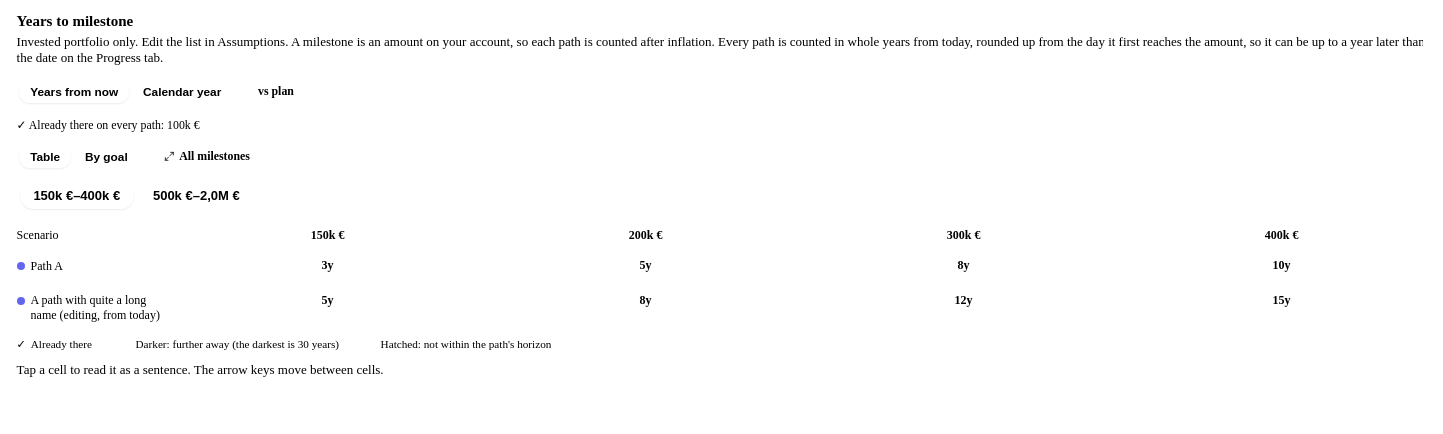
reading by goal › picks one milestone, from every one still ahead, and lists the paths under it
Click the radio button labelled "By goal": (106, 157) [74,146,139,168]
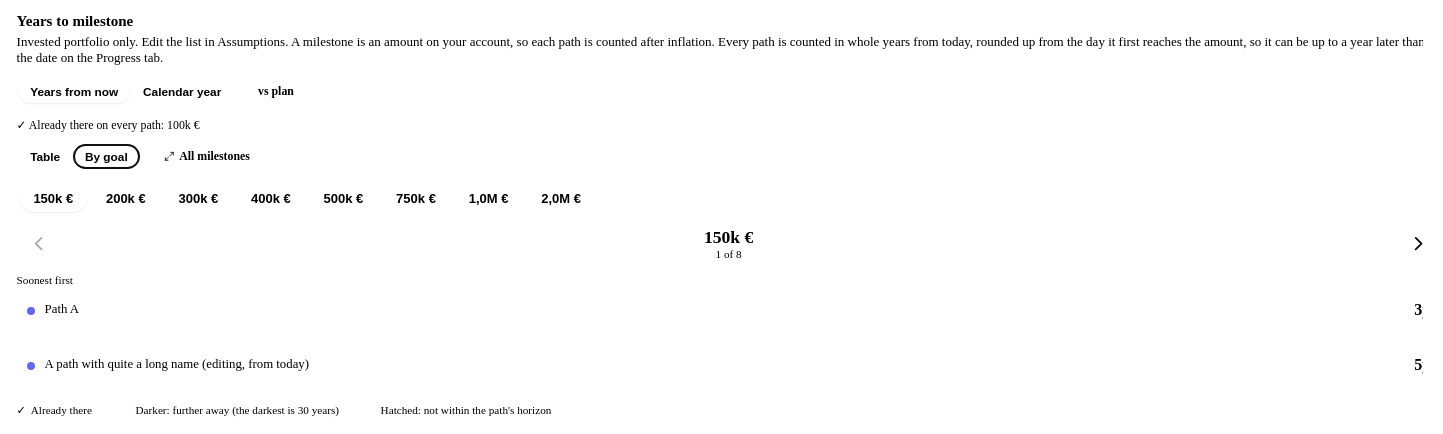
Result: the text "1 of 8" is shown at [716,248,742,260]
